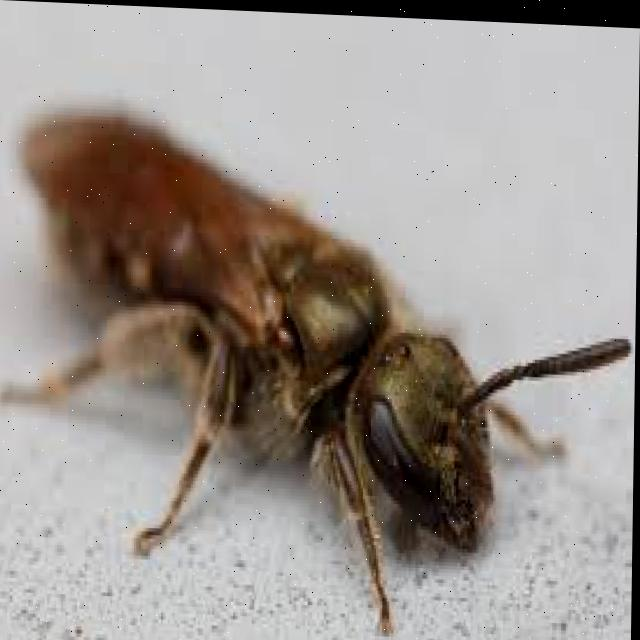Lasioglossum: (12, 86, 639, 640)
